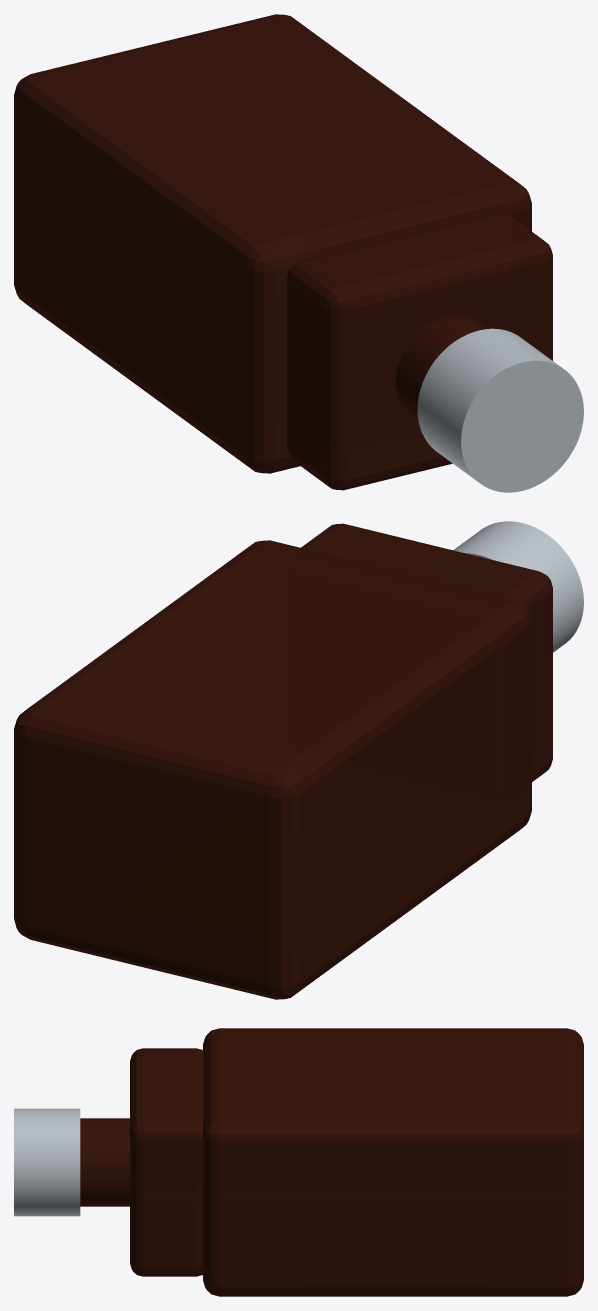
Rendered from reagent_bottle_ethanol.obj.
3 renders of one model, top to bottom at view 1: azimuth 30°, elevation 25°; view 2: azimuth 150°, elevation 25°; view 3: azimuth 270°, elevation 25°, orthographic. The views are drawn at different scales.
Parts seen in each view (by area): view 1: Chemical_Bottle_ETHANOL_Body.001, Chemical_Bottle_ETHANOL_Shoulder.001, Chemical_Bottle_ETHANOL_Cap.001, Chemical_Bottle_ETHANOL_Neck.001; view 2: Chemical_Bottle_ETHANOL_Body.001, Chemical_Bottle_ETHANOL_Shoulder.001, Chemical_Bottle_ETHANOL_Cap.001; view 3: Chemical_Bottle_ETHANOL_Body.001, Chemical_Bottle_ETHANOL_Shoulder.001, Chemical_Bottle_ETHANOL_Cap.001, Chemical_Bottle_ETHANOL_Neck.001.
Boxes of the visible parts, bbox=[...] form: Chemical_Bottle_ETHANOL_Body.001: bbox=[14, 14, 531, 473]; Chemical_Bottle_ETHANOL_Shoulder.001: bbox=[287, 213, 552, 490]; Chemical_Bottle_ETHANOL_Cap.001: bbox=[417, 328, 583, 492]; Chemical_Bottle_ETHANOL_Neck.001: bbox=[396, 316, 486, 422]; Chemical_Bottle_ETHANOL_Body.001: bbox=[14, 540, 531, 999]; Chemical_Bottle_ETHANOL_Shoulder.001: bbox=[301, 523, 552, 781]; Chemical_Bottle_ETHANOL_Cap.001: bbox=[453, 521, 583, 652]; Chemical_Bottle_ETHANOL_Body.001: bbox=[203, 1028, 583, 1296]; Chemical_Bottle_ETHANOL_Shoulder.001: bbox=[130, 1048, 203, 1276]; Chemical_Bottle_ETHANOL_Cap.001: bbox=[14, 1108, 80, 1216]; Chemical_Bottle_ETHANOL_Neck.001: bbox=[80, 1118, 129, 1206].
Bounding box in the file's own units: 0.075 × 0.0597 × 0.172.
